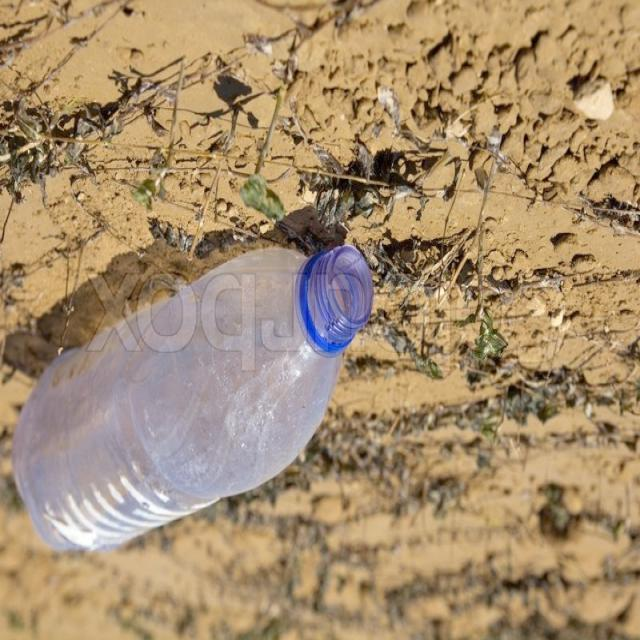not-crumbled: (8, 237, 372, 558)
